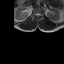CCS_normal: (37, 12, 38, 19)
LFS_normal: (40, 12, 42, 17)
LLS_normal: (38, 12, 40, 17)
RFS_normal: (33, 12, 35, 17)
RLS_normal: (35, 12, 37, 17)
